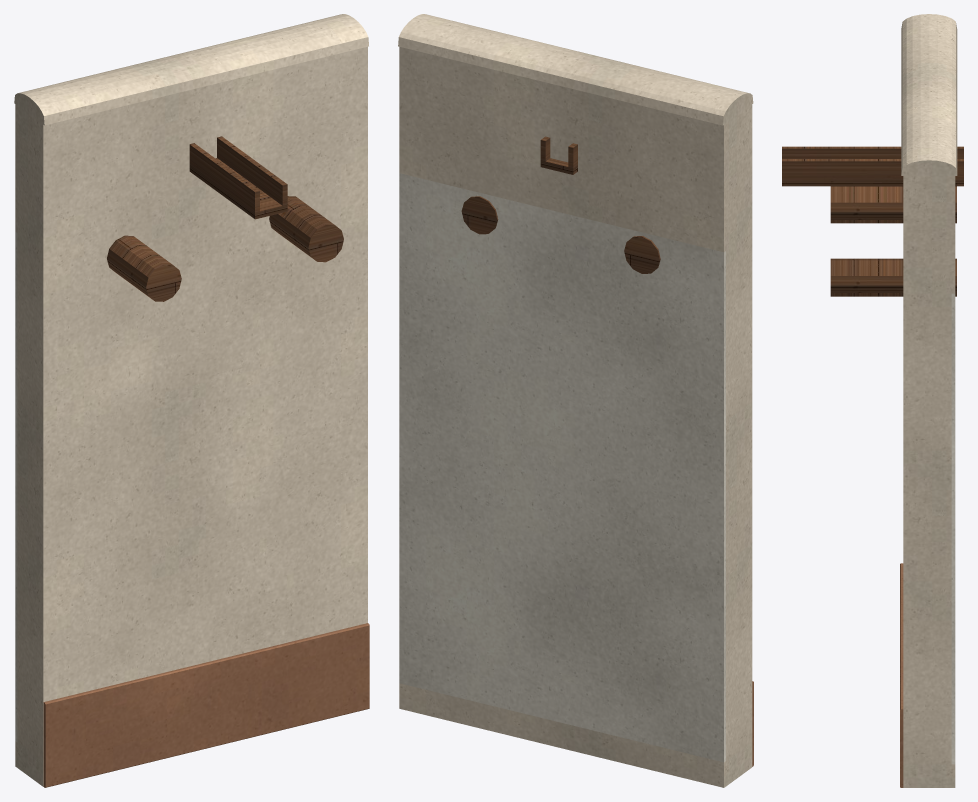
File: c_wall_canale.glb
The picture shows the model from 3 angles, left to right: view 1: azimuth 30°, elevation 25°; view 2: azimuth 150°, elevation 25°; view 3: azimuth 270°, elevation 25°; orthographic projection. The views are drawn at different scales.
Visible parts, largest first — view 1: c_wall_canale_render, c_wall_canale_plinth, c_wall_canale_wood, c_wall_canale_plaster; view 2: c_wall_canale_plaster, c_wall_canale_render, c_wall_canale_wood; view 3: c_wall_canale_render, c_wall_canale_wood, c_wall_canale_plaster, c_wall_canale_plinth.
Boxes of the visible parts, <box> form: c_wall_canale_render: <box>14,14,368,786</box>; c_wall_canale_plinth: <box>43,623,369,787</box>; c_wall_canale_wood: <box>107,136,343,301</box>; c_wall_canale_plaster: <box>15,232,17,741</box>; c_wall_canale_plaster: <box>399,173,725,762</box>; c_wall_canale_render: <box>398,14,753,787</box>; c_wall_canale_wood: <box>461,136,660,273</box>; c_wall_canale_render: <box>901,14,957,787</box>; c_wall_canale_wood: <box>782,146,963,296</box>; c_wall_canale_plaster: <box>951,293,955,764</box>; c_wall_canale_plinth: <box>900,563,903,787</box>.
Size of the model in its own units: 2 by 4 by 1.05.
4 materials, 4 textured.
